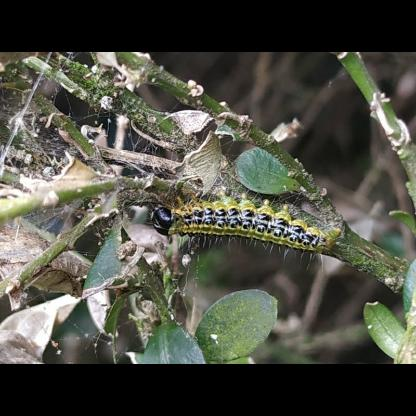agujero: (110, 282, 166, 354)
oruga: (150, 200, 352, 260)
